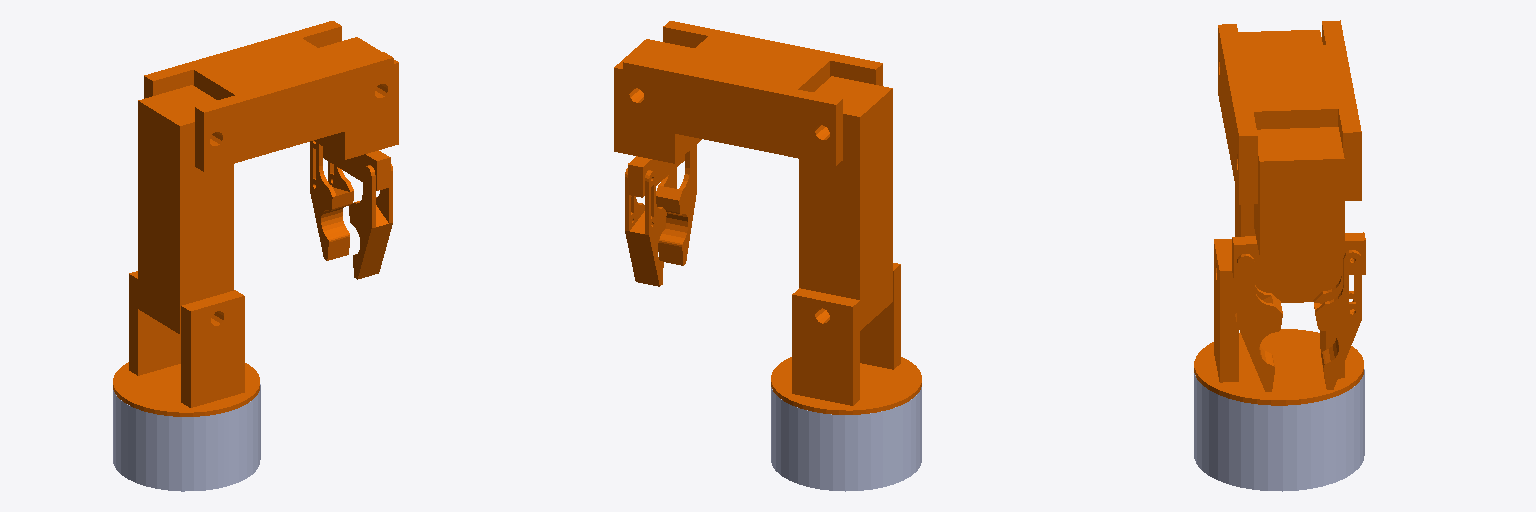
robot.urdf — robot_arm_urdf:
<?xml version="1.0" encoding="utf-8"?>
<!-- This URDF was automatically created by SolidWorks to URDF Exporter! Originally created by [author] ([email redacted]) 
     Commit Version: 1.5.1-0-g916b5db  Build Version: 1.5.7152.31018
     For more information, please see http://wiki.ros.org/sw_urdf_exporter -->
<robot
  name="robot_arm_urdf">
  
  <link name="world"/>
  
  <joint name="base_joint" type="fixed">
	<parent link="world"/>
	<child link="base_link"/>
	<origin rpy="0 0 0" xyz="0.0 0.0 0.0"/>
  </joint>
  
  <link
    name="base_link">
    <inertial>
      <origin
        xyz="0 0 0.025"
        rpy="0 0 0" />
      <mass
        value="0.318086256175966" />
      <inertia
        ixx="0.000227299137225743"
        ixy="-9.09054968537109E-40"
        ixz="-1.33874232875484E-22"
        iyy="0.000227299137225743"
        iyz="6.43476741980685E-22"
        izz="0.000322062334378166" />
    </inertial>
    <visual>
      <origin
        xyz="0 0 0"
        rpy="0 0 0" />
      <geometry>
        <mesh
          filename="package://robot_arm_urdf/meshes/base_link.STL" />
      </geometry>
      <material
        name="">
        <color
          rgba="0.792156862745098 0.819607843137255 0.933333333333333 1" />
      </material>
    </visual>
    <collision>
      <origin
        xyz="0 0 0"
        rpy="0 0 0" />
      <geometry>
        <mesh
          filename="package://robot_arm_urdf/meshes/base_link.STL" />
      </geometry>
    </collision>
  </link>
  <link
    name="link1">
    <inertial>
      <origin
        xyz="1.3878E-17 0.025657 -4.8572E-17"
        rpy="0 0 0" />
      <mass
        value="0.069514" />
      <inertia
        ixx="4.943E-05"
        ixy="-9.9729E-21"
        ixz="1.3129E-19"
        iyy="6.6773E-05"
        iyz="4.4689E-20"
        izz="8.3033E-05" />
    </inertial>
    <visual>
      <origin
        xyz="0 0 0"
        rpy="0 0 0" />
      <geometry>
        <mesh
          filename="package://robot_arm_urdf/meshes/link1.STL" />
      </geometry>
      <material
        name="">
        <color
          rgba="0.9098 0.44314 0.031373 1" />
      </material>
    </visual>
    <collision>
      <origin
        xyz="0 0 0"
        rpy="0 0 0" />
      <geometry>
        <mesh
          filename="package://robot_arm_urdf/meshes/link1.STL" />
      </geometry>
    </collision>
  </link>
  <joint
    name="joint1"
    type="revolute">
    <origin
      xyz="0 0 0.05"
      rpy="1.5708 0 1.6508" />
    <parent
      link="base_link" />
    <child
      link="link1" />
    <axis
      xyz="0 1 0" />
    <limit
      lower="0"
      upper="3.14"
      effort="100"
      velocity="3" />
  </joint>
  <link
    name="link2">
    <inertial>
      <origin
        xyz="0.00070081 0.06 0"
        rpy="0 0 0" />
      <mass
        value="0.24493" />
      <inertia
        ixx="0.00041966"
        ixy="2.406E-20"
        ixz="1.0164E-20"
        iyy="7.4888E-05"
        iyz="8.1862E-21"
        izz="0.00042744" />
    </inertial>
    <visual>
      <origin
        xyz="0 0 0"
        rpy="0 0 0" />
      <geometry>
        <mesh
          filename="package://robot_arm_urdf/meshes/link2.STL" />
      </geometry>
      <material
        name="">
        <color
          rgba="0.9098 0.44314 0.031373 1" />
      </material>
    </visual>
    <collision>
      <origin
        xyz="0 0 0"
        rpy="0 0 0" />
      <geometry>
        <mesh
          filename="package://robot_arm_urdf/meshes/link2.STL" />
      </geometry>
    </collision>
  </link>
  <joint
    name="joint2"
    type="revolute">
    <origin
      xyz="0 0.058 0"
      rpy="0 0 0" />
    <parent
      link="link1" />
    <child
      link="link2" />
    <axis
      xyz="1 0 0" />
    <limit
      lower="-1"
      upper="1"
      effort="100"
      velocity="3" />
  </joint>
  <link
    name="link3">
    <inertial>
      <origin
        xyz="0.00070081 0 0.061"
        rpy="0 0 0" />
      <mass
        value="0.25286" />
      <inertia
        ixx="0.00028214"
        ixy="2.55E-20"
        ixz="-2.0922E-19"
        iyy="0.00035556"
        iyz="-5.9065E-21"
        izz="0.00014165" />
    </inertial>
    <visual>
      <origin
        xyz="0 0 0"
        rpy="0 0 0" />
      <geometry>
        <mesh
          filename="package://robot_arm_urdf/meshes/link3.STL" />
      </geometry>
      <material
        name="">
        <color
          rgba="0.9098 0.44314 0.031373 1" />
      </material>
    </visual>
    <collision>
      <origin
        xyz="0 0 0"
        rpy="0 0 0" />
      <geometry>
        <mesh
          filename="package://robot_arm_urdf/meshes/link3.STL" />
      </geometry>
    </collision>
  </link>
  <joint
    name="joint3"
    type="revolute">
    <origin
      xyz="0 0.12 0"
      rpy="0 0 0" />
    <parent
      link="link2" />
    <child
      link="link3" />
    <axis
      xyz="-1 0 0" />
    <limit
      lower="-1.5"
      upper="1.5"
      effort="100"
      velocity="3" />
  </joint>
  <link
    name="link4">
    <inertial>
      <origin
        xyz="0.0012771 1.3878E-16 -0.02915"
        rpy="0 0 0" />
      <mass
        value="0.12001" />
      <inertia
        ixx="0.00010684"
        ixy="-9.8256E-20"
        ixz="1.4929E-05"
        iyy="0.00012015"
        iyz="4.6816E-19"
        izz="4.0454E-05" />
    </inertial>
    <visual>
      <origin
        xyz="0 0 0"
        rpy="0 0 0" />
      <geometry>
        <mesh
          filename="package://robot_arm_urdf/meshes/link4.STL" />
      </geometry>
      <material
        name="">
        <color
          rgba="0.9098 0.44314 0.031373 1" />
      </material>
    </visual>
    <collision>
      <origin
        xyz="0 0 0"
        rpy="0 0 0" />
      <geometry>
        <mesh
          filename="package://robot_arm_urdf/meshes/link4.STL" />
      </geometry>
    </collision>
  </link>
  <joint
    name="joint4"
    type="revolute">
    <origin
      xyz="0 0 0.122"
      rpy="1.5708 0 3.1416" />
    <parent
      link="link3" />
    <child
      link="link4" />
    <axis
      xyz="1 0 0" />
    <limit
      lower="-1.5"
      upper="1.5"
      effort="100"
      velocity="3" />
  </joint>
  <link
    name="link5">
    <inertial>
      <origin
        xyz="0.0066737 4.1633E-16 -0.040935"
        rpy="0 0 0" />
      <mass
        value="0.009439" />
      <inertia
        ixx="3.1608E-06"
        ixy="-3.1764E-21"
        ixz="3.8708E-07"
        iyy="3.2222E-06"
        iyz="2.1832E-20"
        izz="5.6178E-07" />
    </inertial>
    <visual>
      <origin
        xyz="0 0 0"
        rpy="0 0 0" />
      <geometry>
        <mesh
          filename="package://robot_arm_urdf/meshes/link5.STL" />
      </geometry>
      <material
        name="">
        <color
          rgba="0.9098 0.44314 0.031373 1" />
      </material>
    </visual>
    <collision>
      <origin
        xyz="0 0 0"
        rpy="0 0 0" />
      <geometry>
        <mesh
          filename="package://robot_arm_urdf/meshes/link5.STL" />
      </geometry>
    </collision>
  </link>
  <joint
    name="joint5"
    type="revolute">
    <origin
      xyz="-0.028483 0 -0.055"
      rpy="0 0 0" />
    <parent
      link="link4" />
    <child
      link="link5" />
    <axis
      xyz="0 1 0" />
    <limit
      lower="-1"
      upper="1"
      effort="100"
      velocity="3" />
  </joint>
  
  <transmission name="link_1_trans">
	<type>transmission_interface/SimpleTransmission</type>
	<joint name="joint1">
	<hardwareInterface>hardware_interface/PositionJointInterface</hardwareInterface>
	</joint>
	<actuator name="link_1_motor">
		<hardwareInterface>hardware_interface/PositionJointInterface</hardwareInterface>
		<mechanicalReduction>1</mechanicalReduction>
	</actuator>
  </transmission>
  
  <transmission name="link_2_trans">
	<type>transmission_interface/SimpleTransmission</type>
	<joint name="joint2">
	<hardwareInterface>hardware_interface/PositionJointInterface</hardwareInterface>
	</joint>
	<actuator name="link_2_motor">
		<hardwareInterface>hardware_interface/PositionJointInterface</hardwareInterface>
		<mechanicalReduction>1</mechanicalReduction>
	</actuator>
  </transmission>
  
  <transmission name="link_3_trans">
	<type>transmission_interface/SimpleTransmission</type>
	<joint name="joint3">
	<hardwareInterface>hardware_interface/PositionJointInterface</hardwareInterface>
	</joint>
	<actuator name="link_3_motor">
		<hardwareInterface>hardware_interface/PositionJointInterface</hardwareInterface>
		<mechanicalReduction>1</mechanicalReduction>
	</actuator>
  </transmission>
  
  <transmission name="link_4_trans">
	<type>transmission_interface/SimpleTransmission</type>
	<joint name="joint4">
	<hardwareInterface>hardware_interface/PositionJointInterface</hardwareInterface>
	</joint>
	<actuator name="link_4_motor">
		<hardwareInterface>hardware_interface/PositionJointInterface</hardwareInterface>
		<mechanicalReduction>1</mechanicalReduction>
	</actuator>
  </transmission>
  
  <transmission name="link_5_trans">
	<type>transmission_interface/SimpleTransmission</type>
	<joint name="joint5">
	<hardwareInterface>hardware_interface/PositionJointInterface</hardwareInterface>
	</joint>
	<actuator name="link_5_motor">
		<hardwareInterface>hardware_interface/PositionJointInterface</hardwareInterface>
		<mechanicalReduction>1</mechanicalReduction>
	</actuator>
  </transmission>
  
  <gazebo>
	<plugin name="control" filename="libgazebo_ros_control.so">
		<robotNamespace>/</robotNamespace>
  	</plugin>
  </gazebo>
  
  <gazebo reference="link_1">
	<selfCollide>true</selfCollide>
  </gazebo>
  
  <gazebo reference="link_2">
	<selfCollide>true</selfCollide>
  </gazebo>
  
  <gazebo reference="link_3">
	<selfCollide>true</selfCollide>
  </gazebo>
  
  <gazebo reference="link_4">
	<selfCollide>true</selfCollide>
  </gazebo>
  
  <gazebo reference="link_5">
	<selfCollide>true</selfCollide>
  </gazebo>
  
</robot>

--- What the picture shows (computed from the rendered views, not written in the file) ---
3 views of the same robot in one strip: view 1: azimuth 30°, elevation 25°; view 2: azimuth 150°, elevation 25°; view 3: azimuth 270°, elevation 25° (orthographic).
Robot: robot_arm_urdf — 7 links, 6 joints (5 revolute, 1 fixed); root link world; default pose: every joint at zero.
Visible links, largest first — view 1: link3, link2, link1, base_link, link4, link5; view 2: link3, link2, link1, base_link, link4, link5; view 3: link4, link3, base_link, link1, link5, link2.
Boxes of the visible links, <box> form: link3: <box>144,21,393,171</box>; link2: <box>138,85,233,334</box>; link1: <box>113,271,259,416</box>; base_link: <box>113,384,260,491</box>; link4: <box>314,37,398,279</box>; link5: <box>310,141,353,260</box>; link3: <box>623,21,882,165</box>; link2: <box>799,76,892,330</box>; link1: <box>771,263,921,414</box>; base_link: <box>771,387,921,491</box>; link4: <box>614,39,701,265</box>; link5: <box>625,168,666,286</box>; link4: <box>1232,127,1365,391</box>; link3: <box>1218,20,1361,204</box>; base_link: <box>1194,369,1364,491</box>; link1: <box>1194,239,1363,405</box>; link5: <box>1313,250,1361,389</box>; link2: <box>1235,30,1325,302</box>.
Bounding box of the posed robot: 0.1882 × 0.0907 × 0.248 m (x, y, z).
6 mesh visuals loaded from 6 distinct referenced files (6 binary STL).